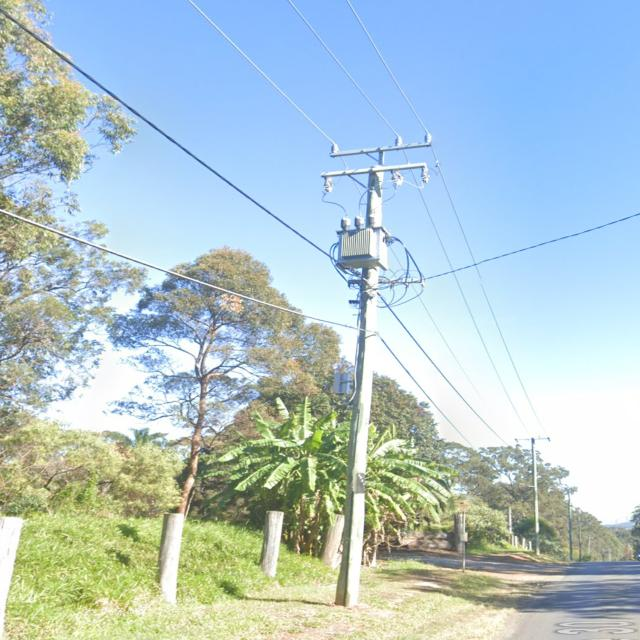HV-transmission: (319, 132, 433, 194), (514, 435, 550, 443)
crossarm: (320, 162, 427, 177), (329, 142, 432, 157), (347, 277, 425, 289), (517, 438, 548, 441)
timber-pole: (334, 164, 386, 607), (531, 437, 541, 556)
transformer: (331, 215, 389, 271)
